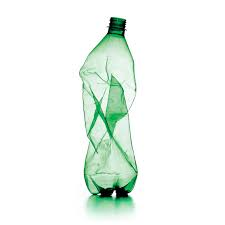bottle: (83, 15, 137, 195)
plastic: (82, 17, 140, 196)
